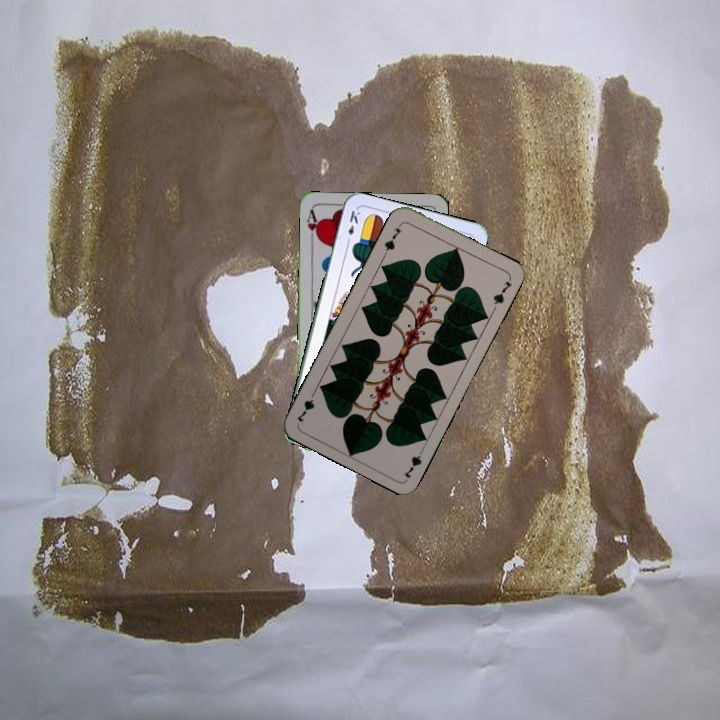EK: (343, 206, 363, 247)
G7: (399, 443, 427, 481), (380, 219, 405, 257)
HA: (303, 206, 322, 247)
